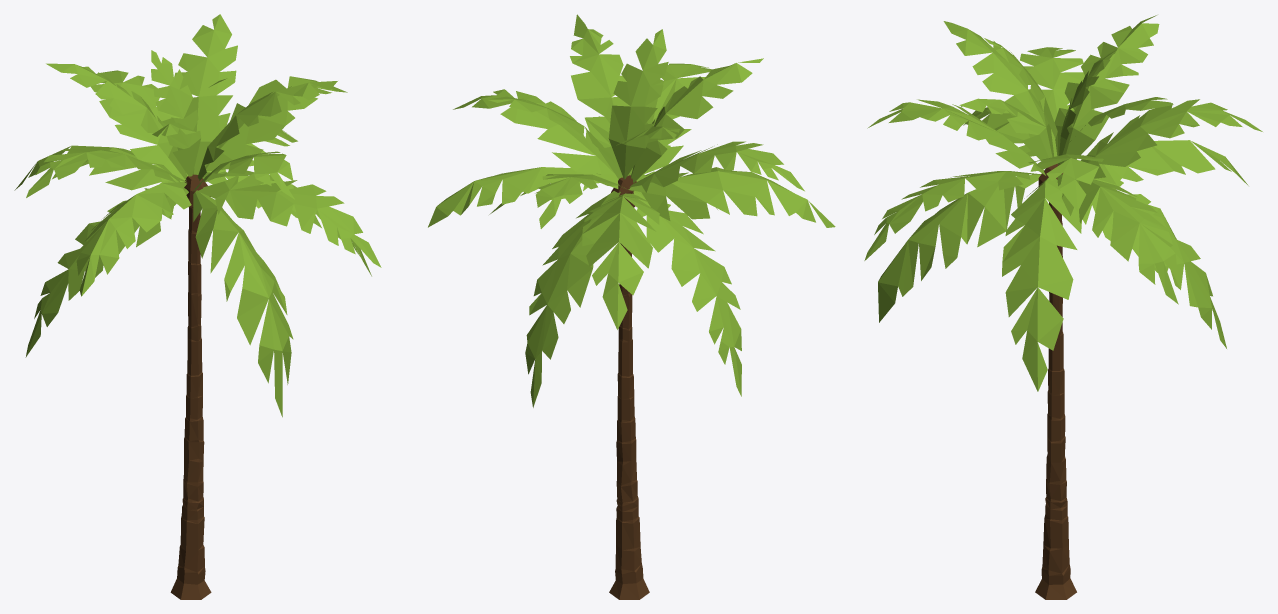
Rendered from tree-palm-mature-a.gltf.
3 renders of one model, left to right at view 1: azimuth 30°, elevation 25°; view 2: azimuth 150°, elevation 25°; view 3: azimuth 270°, elevation 25°, orthographic. The views are drawn at different scales.
Parts seen in each view (by area): view 1: tree-palm-mature-a; view 2: tree-palm-mature-a; view 3: tree-palm-mature-a.
Boxes of the visible parts, x1,y1,x2,y2 form: tree-palm-mature-a: (14,14,381,599); tree-palm-mature-a: (428,14,835,599); tree-palm-mature-a: (864,15,1262,599).
Bounding box in the file's own units: 0.0579 × 0.0869 × 0.0566.
